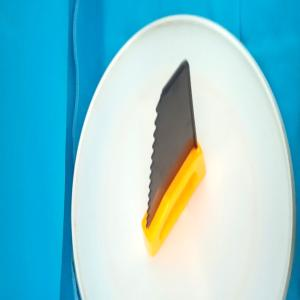serrote: (141, 57, 208, 258)
